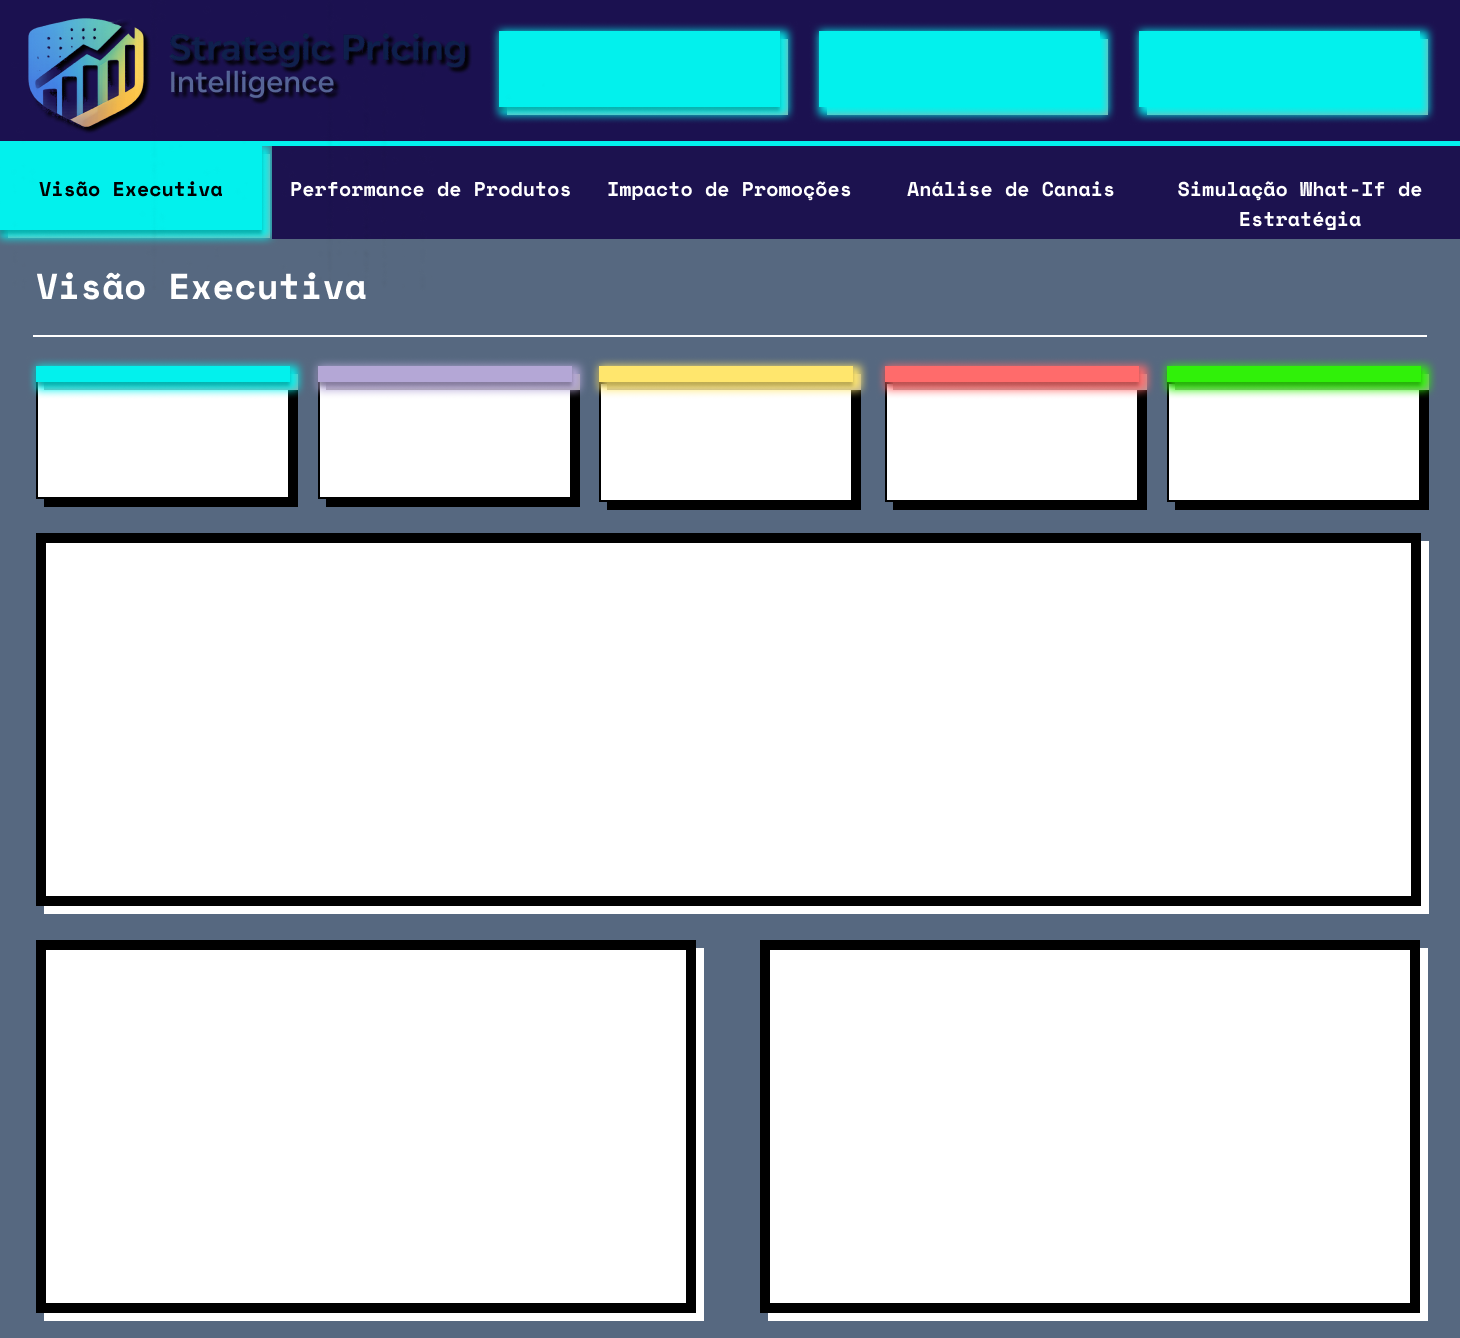

Layout of this report page (visuals, bound fields, positions):
{"tool":"powerbi","page":{"name":"Visão Executiva","canvas":[1460,1338],"ordinal":0},"visuals":[{"type":"cardVisual","title":"Receita Total","fields":{"Data":["Fato_Vendas.Receita Total"]},"box":[36.7,385.6,251.1,108.9],"z":0},{"type":"cardVisual","title":"Margem","fields":{"Data":["Fato_Vendas.Margem"]},"box":[320,385.6,250,108.9],"z":1000},{"type":"cardVisual","title":"Margem %","fields":{"Data":["Fato_Vendas.Margem %"]},"box":[601.1,385.6,251.1,112.2],"z":2000},{"type":"cardVisual","title":"Volume Total","fields":{"Data":["Fato_Vendas.Volume Total"]},"box":[886.7,385.6,251.1,112.2],"z":3000},{"type":"cardVisual","title":"Ticket Médio","fields":{"Data":["Fato_Vendas.Ticket Médio"]},"box":[1168.9,385.6,251.1,112.2],"z":4000},{"type":"lineChart","title":"Receita ao longo do tempo","fields":{"Y":["Fato_Vendas.Receita Total"],"Category":["Calendario.Date.Variation.Hierarquia de datas.Ano","Calendario.Date.Variation.Hierarquia de datas.Trimestre","Calendario.Date.Variation.Hierarquia de datas.Mês","Calendario.Date.Variation.Hierarquia de datas.Dia"]},"box":[46.7,546.7,1363.3,346.7],"z":5000},{"type":"columnChart","title":"Receita por Categoria","fields":{"Y":["Fato_Vendas.Receita Total"],"Category":["Dim_Produto.Categoria"]},"box":[43.3,955,643.3,348.3],"z":6000},{"type":"donutChart","title":"Receita por Canal","fields":{"Y":["Fato_Vendas.Receita Total","Fato_Vendas.Receita Total"],"Category":["Dim_Canal.Canal"]},"box":[770,955,640,351.7],"z":7000},{"type":"slicer","title":"Produto","fields":{"Values":["Dim_Produto.Categoria"]},"box":[1138,30,290,82],"z":8000},{"type":"slicer","title":"Canal","fields":{"Values":["Dim_Canal.Canal"]},"box":[824,30,276,82],"z":9000},{"type":"slicer","title":"Ano","fields":{"Values":["Dim_Data.Ano"]},"box":[502,30,276,82],"z":10000},{"type":"pageNavigator","box":[1.7,140,1458.3,96.7],"z":11000}]}

Visuals, with their boxes on the page's 1460x1338 design canvas (x1, y1, x2, y2). These are canvas units, not pixel positions in the 1460x1338 screenshot, which may show the page scaled, cropped or inside an application window:
"Receita Total" cardVisual: 37:386:288:494
"Margem" cardVisual: 320:386:570:494
"Margem %" cardVisual: 601:386:852:498
"Volume Total" cardVisual: 887:386:1138:498
"Ticket Médio" cardVisual: 1169:386:1420:498
"Receita ao longo do tempo" lineChart: 47:547:1410:893
"Receita por Categoria" columnChart: 43:955:687:1303
"Receita por Canal" donutChart: 770:955:1410:1307
"Produto" slicer: 1138:30:1428:112
"Canal" slicer: 824:30:1100:112
"Ano" slicer: 502:30:778:112
pageNavigator: 2:140:1460:237
